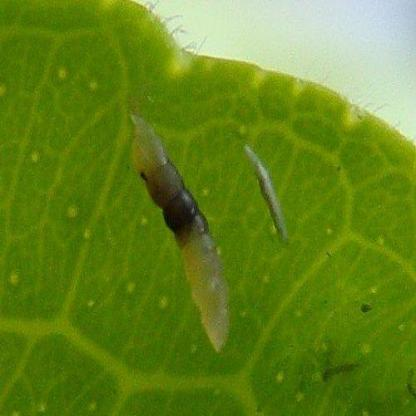armyworm: (123, 113, 235, 356), (244, 143, 291, 248)
